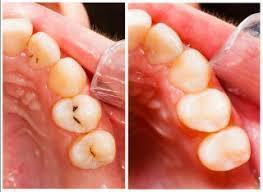Caries: (70, 102, 87, 129), (87, 145, 100, 161), (29, 50, 40, 66)
